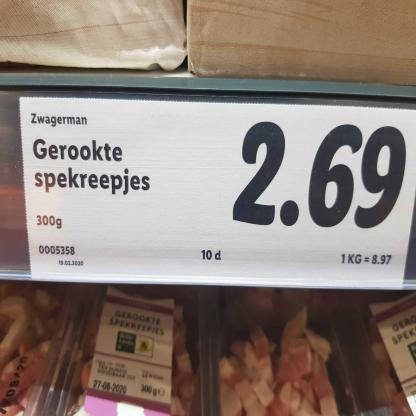prtg: (21, 99, 415, 290)
